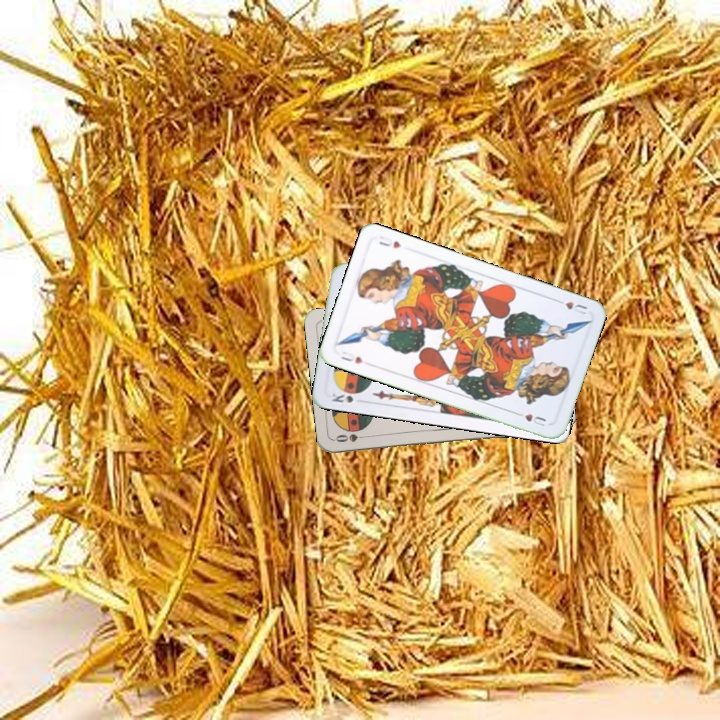HU: (551, 295, 590, 317), (336, 347, 366, 366)
SK: (328, 386, 363, 406)
SO: (331, 430, 372, 445)
